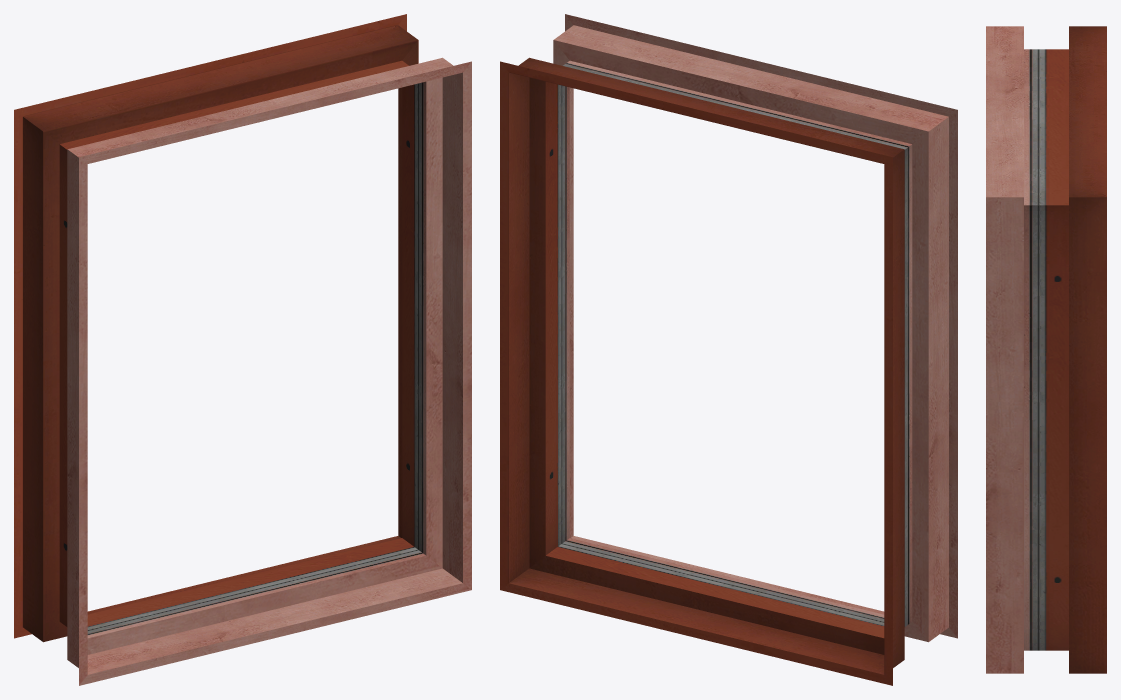
The model's file is window01.fbx.
The picture shows the model from 3 angles, left to right: view 1: azimuth 30°, elevation 25°; view 2: azimuth 150°, elevation 25°; view 3: azimuth 270°, elevation 25°; orthographic projection. The views are drawn at different scales.
Parts seen in each view (by area): view 1: mesh_5546; view 2: mesh_5546; view 3: mesh_5546.
Boxes of the visible parts, bbox=[...] form: mesh_5546: bbox=[14, 14, 471, 685]; mesh_5546: bbox=[500, 14, 957, 685]; mesh_5546: bbox=[986, 26, 1106, 673].
Size of the model in its own units: 56 by 72 by 16.
1 material, 1 textured.
